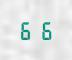six: (19, 20, 35, 40), (36, 20, 52, 40)
